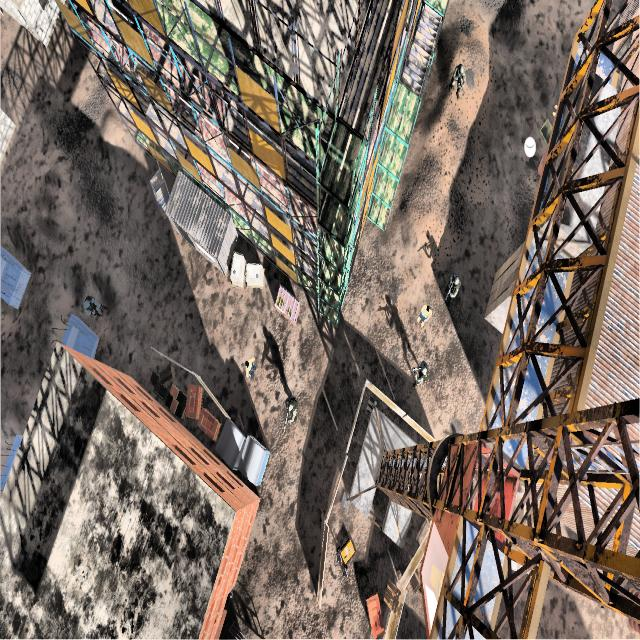bad: (437, 264, 467, 308), (447, 55, 472, 105), (403, 352, 432, 394), (283, 380, 304, 432), (80, 286, 107, 323)
good: (414, 294, 435, 335), (239, 359, 262, 381)
